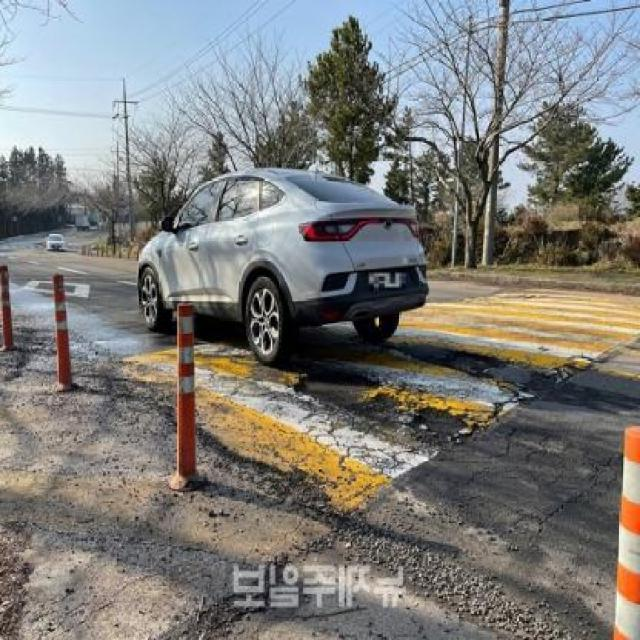pothole: (402, 392, 476, 455), (290, 362, 381, 404), (437, 345, 500, 381)
